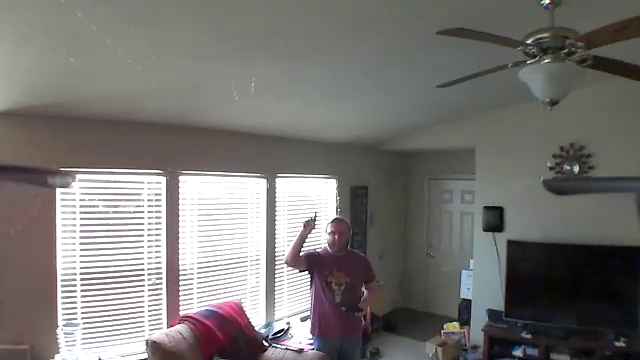up: (299, 206, 319, 235)
